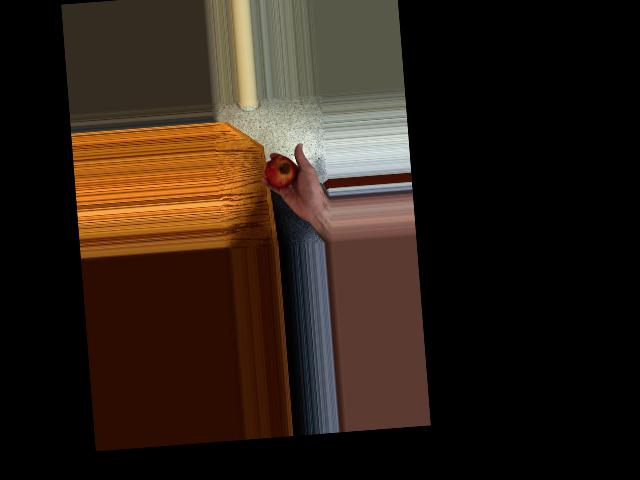apple: (261, 150, 302, 201)
